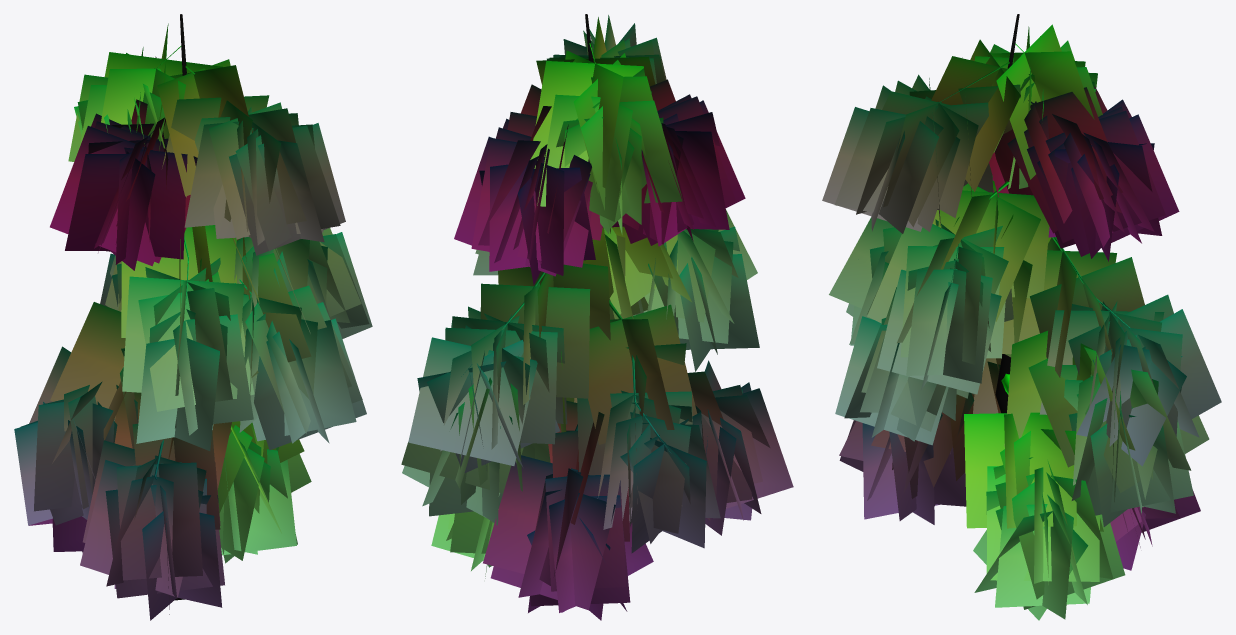
File: URP_P13_Tree_9_LOD_2.fbx
3 renders of one model, left to right at view 1: azimuth 30°, elevation 25°; view 2: azimuth 150°, elevation 25°; view 3: azimuth 270°, elevation 25°, orthographic.
Visible parts, largest first — view 1: Tree_9_LOD_2; view 2: Tree_9_LOD_2; view 3: Tree_9_LOD_2.
Part boxes in pixels (bbox=[...]): Tree_9_LOD_2: bbox=[14, 14, 372, 620]; Tree_9_LOD_2: bbox=[401, 14, 793, 620]; Tree_9_LOD_2: bbox=[822, 14, 1221, 620].
Bounding box in the file's own units: 322 × 622 × 394.
